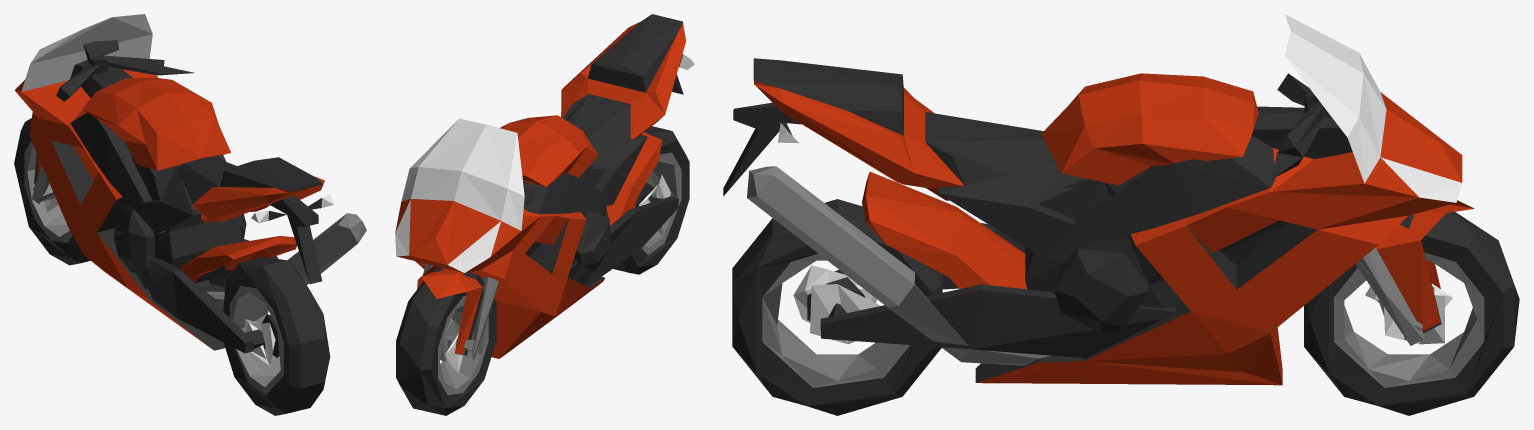
The model's file is motorcycle.glb.
3 views of the same model, side by side, from view 1: azimuth 30°, elevation 25°; view 2: azimuth 150°, elevation 25°; view 3: azimuth 270°, elevation 25° (orthographic). The views are drawn at different scales.
Visible parts, largest first — view 1: Motorcycle; view 2: Motorcycle; view 3: Motorcycle.
Part boxes in pixels (x1,y1,x2,y2): Motorcycle: (14,14,366,415); Motorcycle: (395,14,694,415); Motorcycle: (723,14,1519,415).
Bounding box in the file's own units: 35.82 × 65.95 × 126.
Materials: 1 (1 with a texture image).
